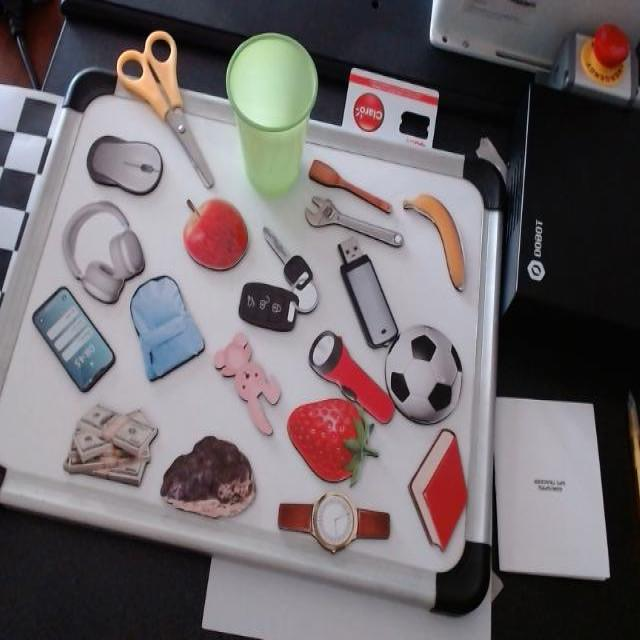Other Objects: (115, 29, 214, 189), (226, 225, 328, 360), (303, 321, 398, 444), (119, 262, 206, 383), (396, 177, 482, 292), (31, 285, 115, 392), (61, 199, 145, 304), (330, 230, 400, 355), (159, 433, 256, 517), (62, 403, 157, 487), (385, 323, 462, 423), (212, 331, 281, 436), (280, 493, 389, 552), (304, 195, 403, 247), (85, 134, 164, 197), (182, 197, 248, 271), (308, 157, 392, 213)
